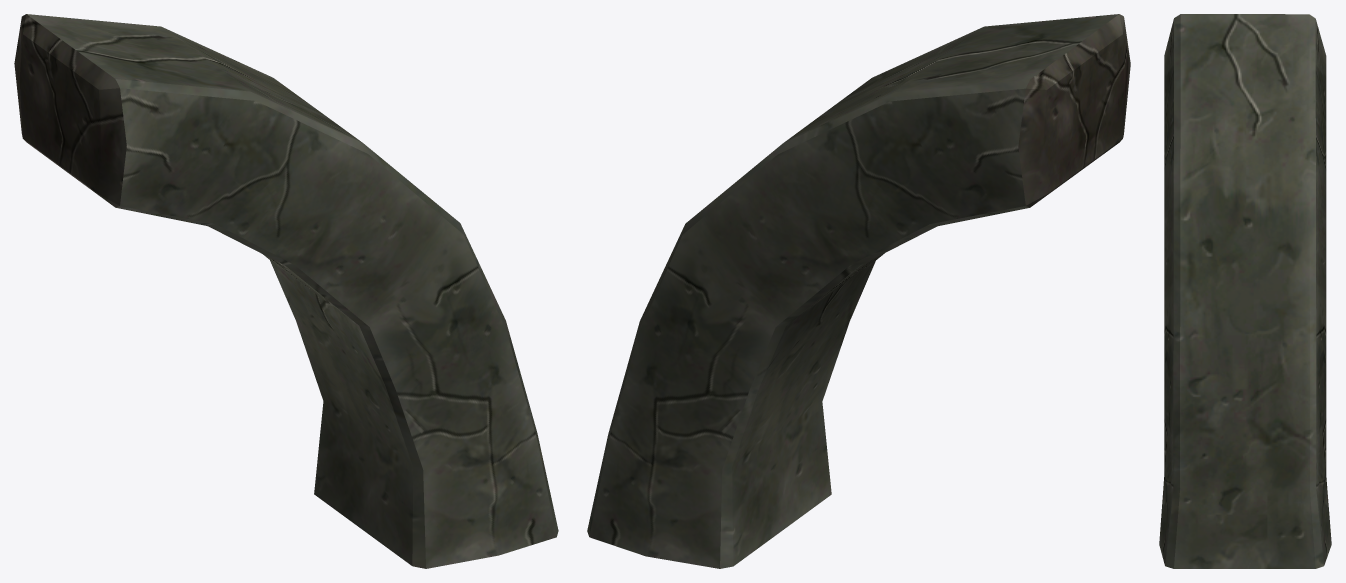
Rendered from Ark01.FBX.
The picture shows the model from 3 angles, left to right: view 1: azimuth 30°, elevation 25°; view 2: azimuth 150°, elevation 25°; view 3: azimuth 270°, elevation 25°; orthographic projection. The views are drawn at different scales.
Parts seen in each view (by area): view 1: Ark01; view 2: Ark01; view 3: Ark01.
Boxes of the visible parts, x1=… form: Ark01: x1=14, y1=14, x2=558, y2=568; Ark01: x1=587, y1=14, x2=1130, y2=568; Ark01: x1=1159, y1=14, x2=1331, y2=568.
Bounding box in the file's own units: 52.25 × 61.85 × 24.13.
